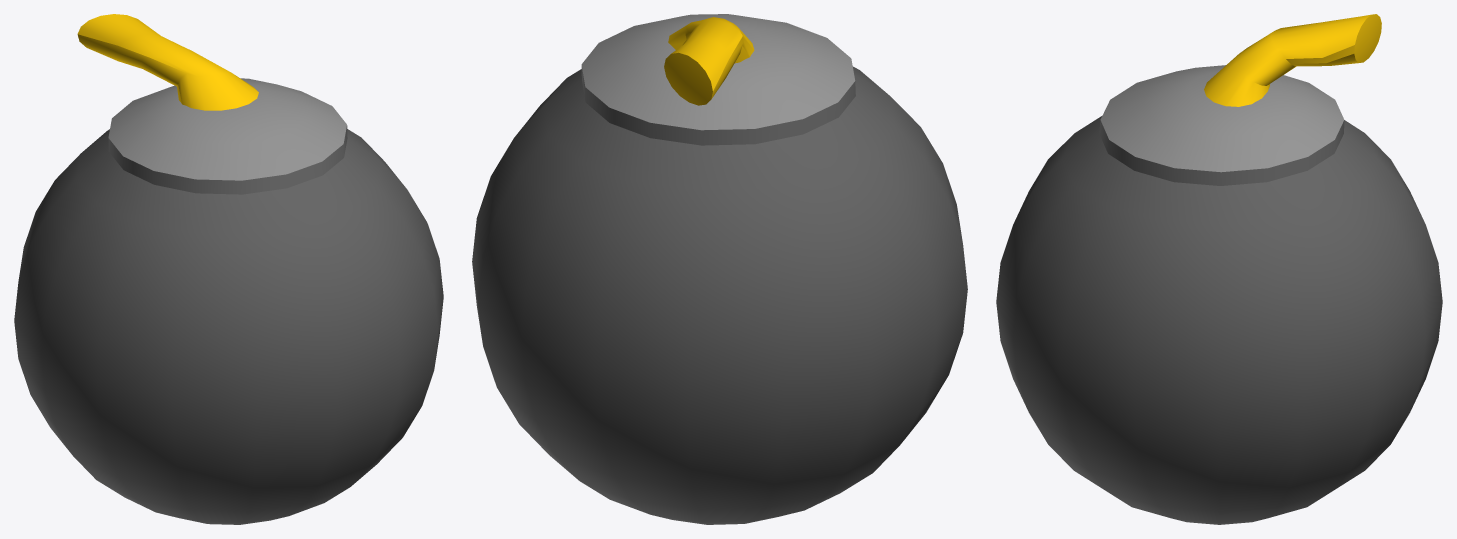
Rendered from bomba11.fbx.
The picture shows the model from 3 angles, left to right: view 1: azimuth 30°, elevation 25°; view 2: azimuth 150°, elevation 25°; view 3: azimuth 270°, elevation 25°; orthographic projection. The views are drawn at different scales.
Parts seen in each view (by area): view 1: Sphere.003; view 2: Sphere.003; view 3: Sphere.003.
Part boxes in pixels (x1=…): Sphere.003: x1=14, y1=14, x2=443, y2=524; Sphere.003: x1=472, y1=14, x2=967, y2=524; Sphere.003: x1=996, y1=14, x2=1442, y2=524.
Size of the model in its own units: 0.6841 by 0.7834 by 0.6841.
